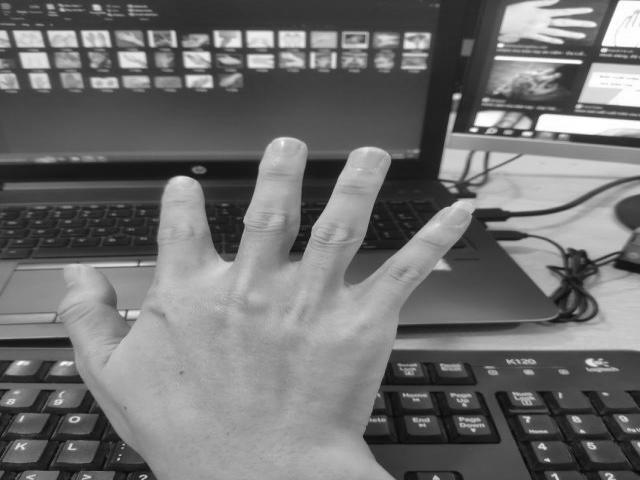not-gloved: (50, 136, 476, 480)
